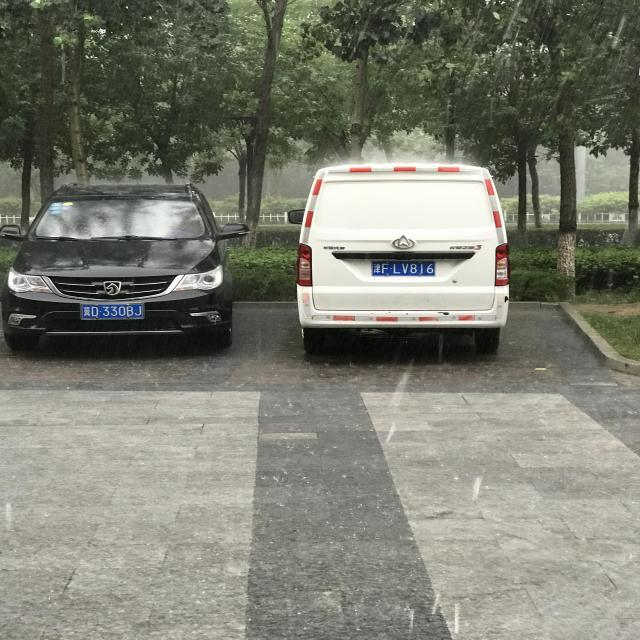car: (184, 389, 350, 639), (165, 132, 356, 344)
